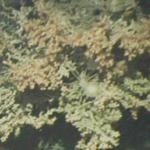alive: (2, 5, 148, 148)
